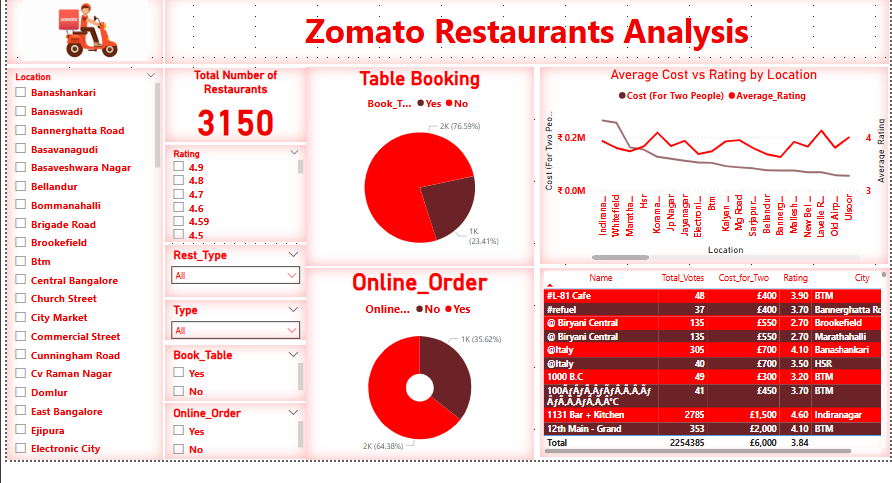

This screenshot's page, from the dashboard's own definition file:
{"tool":"powerbi","page":{"name":"Page 1","canvas":[1366,720],"ordinal":0},"visuals":[{"type":"card","title":"Total Number of Restaurants","fields":{"Values":["Table.Total_Restaurants"]},"box":[244.5,112.5,219,114],"z":0},{"type":"slicer","fields":{"Values":["Clean_data.Book_Table"]},"box":[244.5,541.5,219,87],"z":1000},{"type":"slicer","fields":{"Values":["Clean_data.Online_Order"]},"box":[244.5,631.5,219,85.5],"z":2000},{"type":"slicer","title":"Rating","fields":{"Values":["Clean_data.Rating"]},"box":[244.5,232.5,219,150],"z":3000},{"type":"slicer","fields":{"Values":["Clean_data.Rest_Type"]},"box":[244.5,387,219,81],"z":4000},{"type":"slicer","fields":{"Values":["Clean_data.Type"]},"box":[244.5,472.5,219,61.5],"z":5000},{"type":"pieChart","title":"Table Booking","fields":{"Category":["Clean_data.Book_Table"],"Y":["Table.Total_Restaurants"]},"box":[463.5,111,352.5,307.5],"z":6000},{"type":"slicer","fields":{"Values":["Clean_data.Location"]},"box":[0,112.5,241.5,607.5],"z":7000},{"type":"donutChart","title":" Online_Order","fields":{"Y":["Table.Total_Restaurants"],"Category":["Clean_data.Online_Order"]},"box":[463.5,423,352.5,297],"z":8000},{"type":"tableEx","title":"Distribution of Restaurant Types","fields":{"Values":["Clean_data.Name","Table.Total_Votes","Table.Max_Cost_for_Two","Table.Average_Rating","Clean_data.Listed_In(City)"]},"box":[825,423,541.5,292.5],"z":9000},{"type":"lineChart","title":"Average Cost vs Rating by Location","fields":{"Y":["Sum(Clean_data.Approx_Cost(For Two People))"],"Category":["Clean_data.Location"],"Y2":["Table.Average_Rating"]},"box":[825,111,538.5,304.5],"z":10000},{"type":"image","box":[0,0,241.5,106.5],"z":11000},{"type":"shape","box":[244.5,0,1120.5,106.5],"z":12000}]}

Visuals, with their boxes in screenshot pixels (x1, y1, x2, y2), scaled from the page's 1366x720 canvas onto the 892x483 screenshot:
"Total Number of Restaurants" card: {"x1": 160, "y1": 75, "x2": 303, "y2": 152}
slicer - Clean_data.Book_Table: {"x1": 160, "y1": 363, "x2": 303, "y2": 422}
slicer - Clean_data.Online_Order: {"x1": 160, "y1": 424, "x2": 303, "y2": 481}
"Rating" slicer: {"x1": 160, "y1": 156, "x2": 303, "y2": 257}
slicer - Clean_data.Rest_Type: {"x1": 160, "y1": 260, "x2": 303, "y2": 314}
slicer - Clean_data.Type: {"x1": 160, "y1": 317, "x2": 303, "y2": 358}
"Table Booking" pieChart: {"x1": 303, "y1": 74, "x2": 533, "y2": 281}
slicer - Clean_data.Location: {"x1": 0, "y1": 75, "x2": 158, "y2": 482}
" Online_Order" donutChart: {"x1": 303, "y1": 284, "x2": 533, "y2": 482}
"Distribution of Restaurant Types" tableEx: {"x1": 539, "y1": 284, "x2": 891, "y2": 480}
"Average Cost vs Rating by Location" lineChart: {"x1": 539, "y1": 74, "x2": 890, "y2": 279}
image: {"x1": 0, "y1": 0, "x2": 158, "y2": 71}
shape: {"x1": 160, "y1": 0, "x2": 891, "y2": 71}
